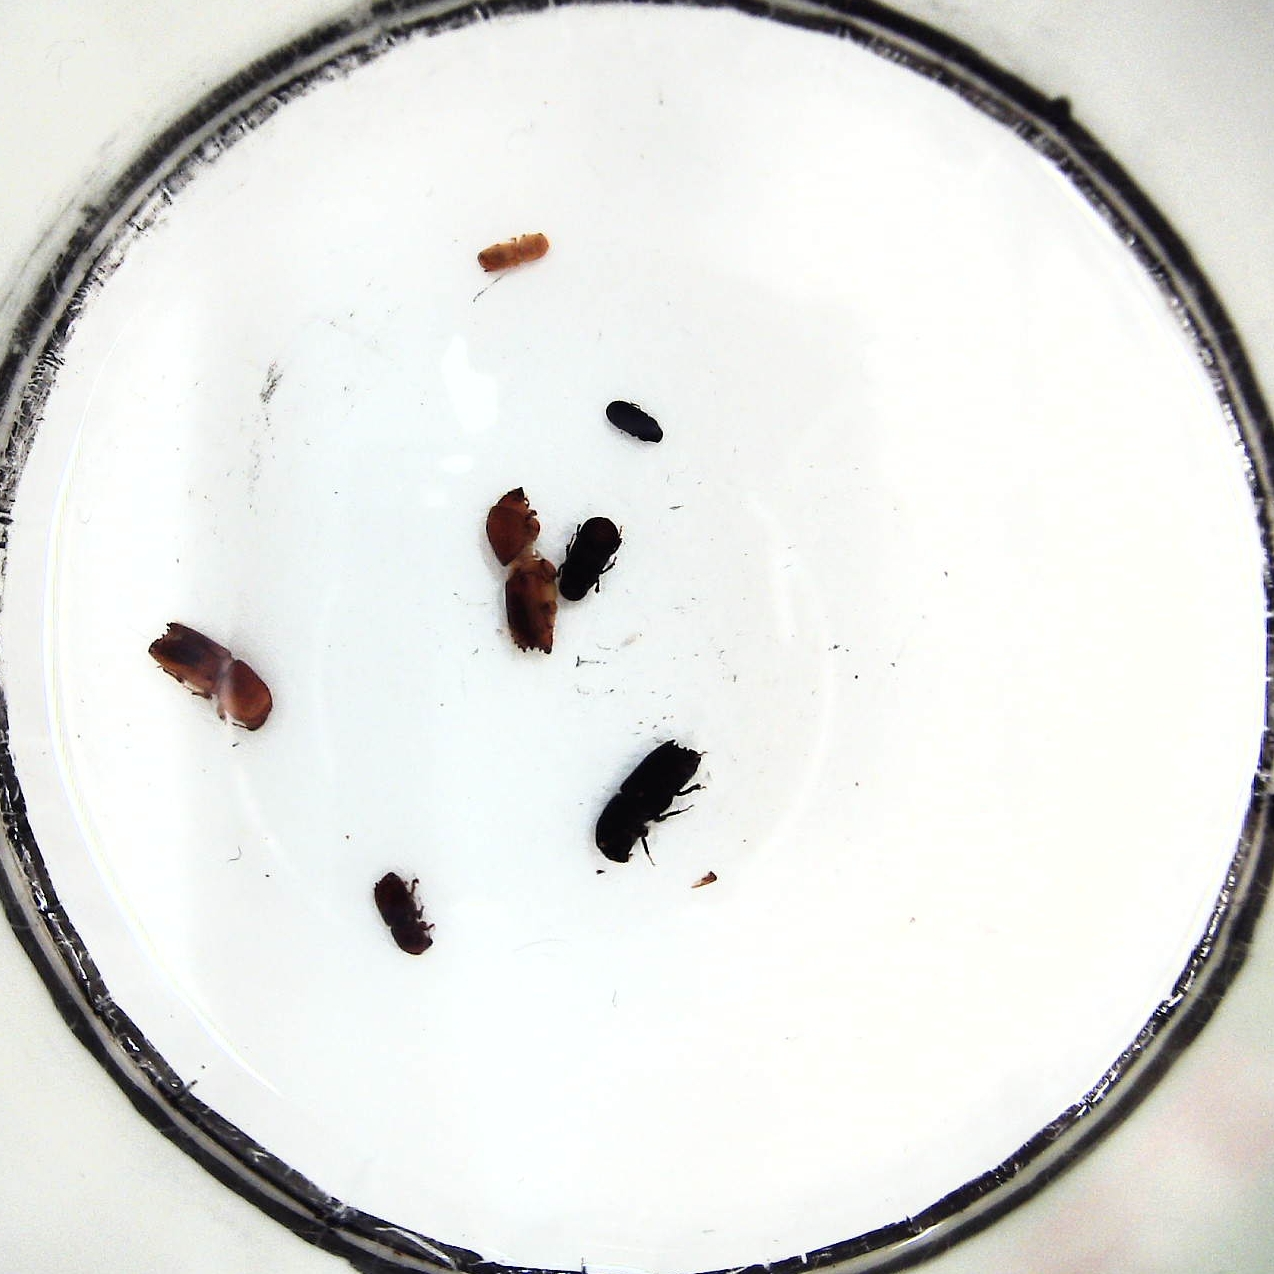Boerner: (590, 740, 703, 867), (147, 619, 274, 731), (481, 487, 558, 656)
Linnaeus: (371, 873, 435, 957)
acuminatus: (476, 231, 549, 273)
armandi: (559, 514, 623, 605)
coleoptera: (602, 400, 664, 446)
